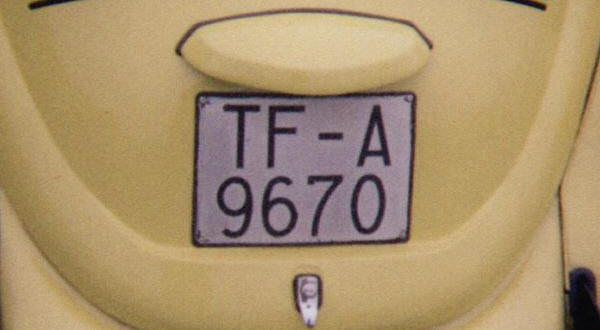license_plate: (192, 91, 417, 245)
